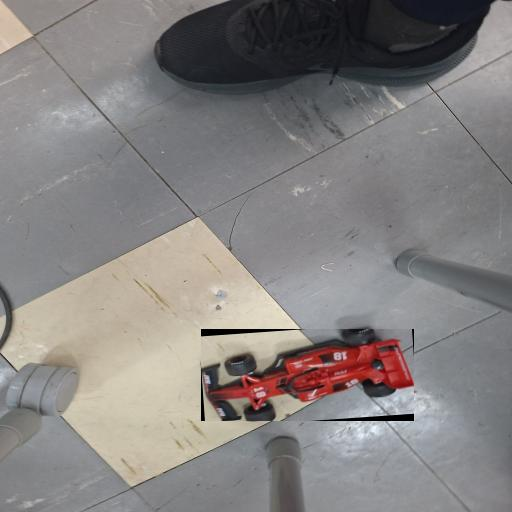carro: (202, 329, 414, 420)
